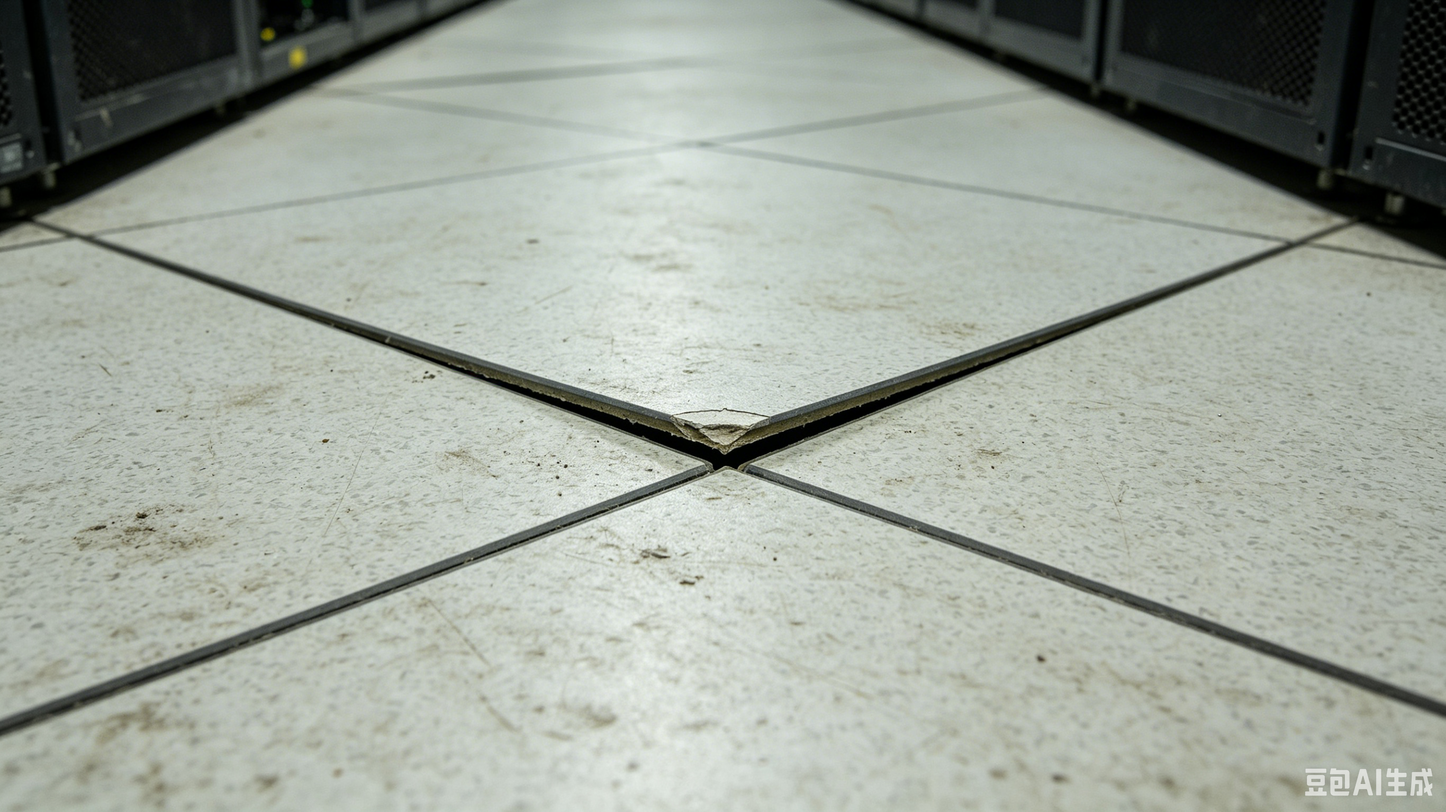floor_defect: (399, 307, 997, 513)
